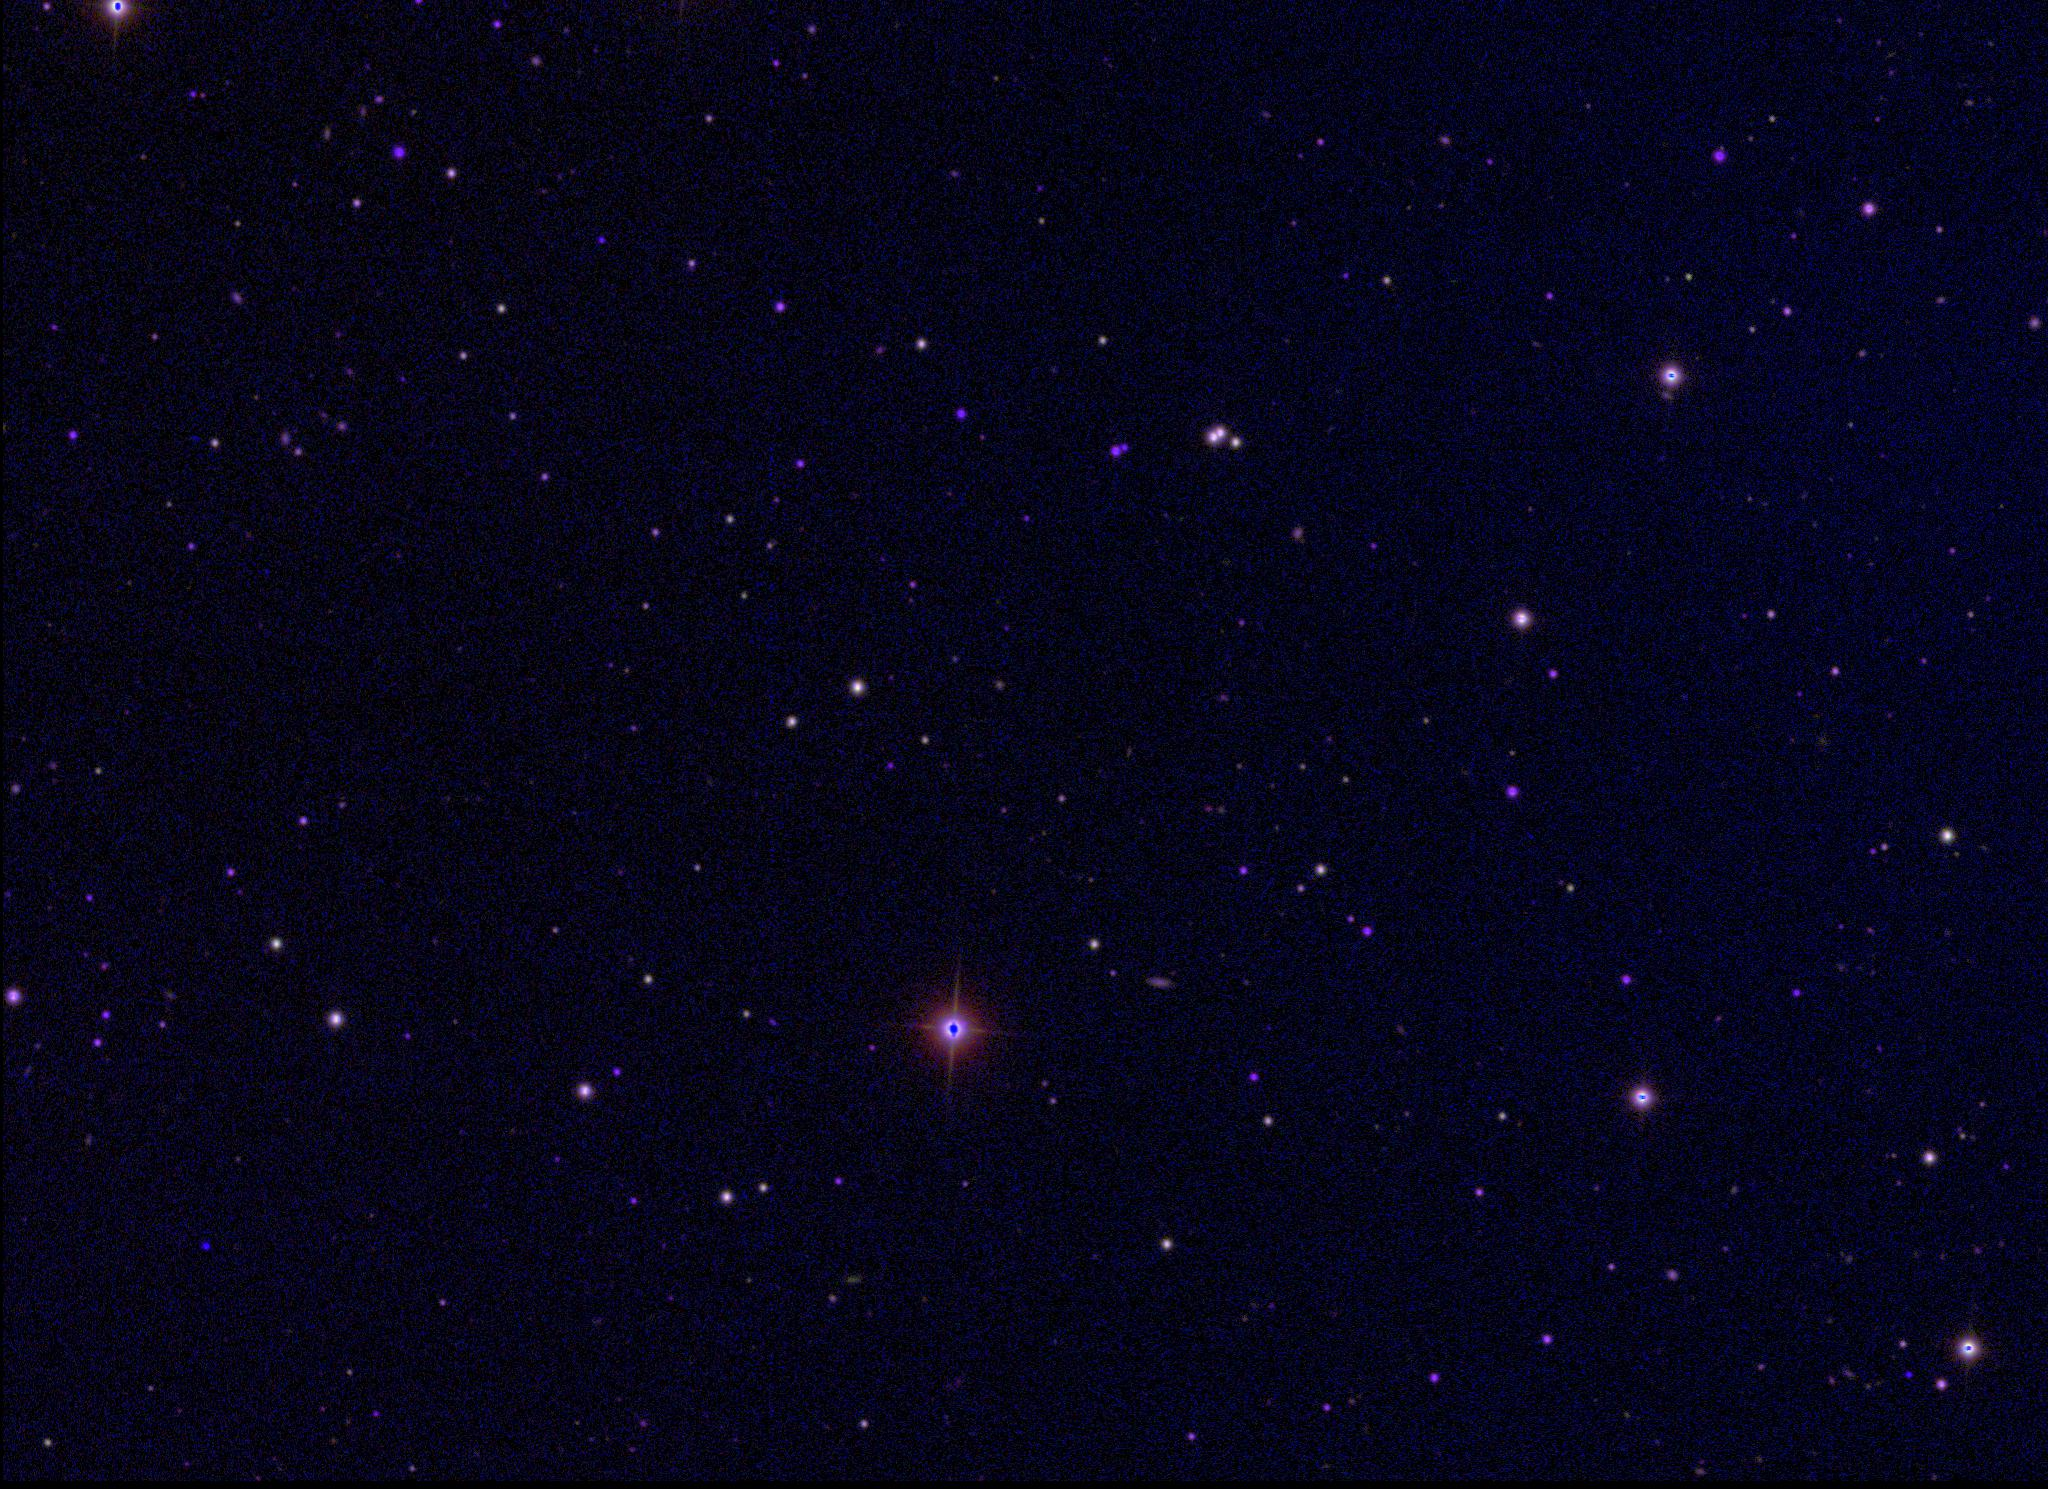L: (199, 1239, 213, 1254)
